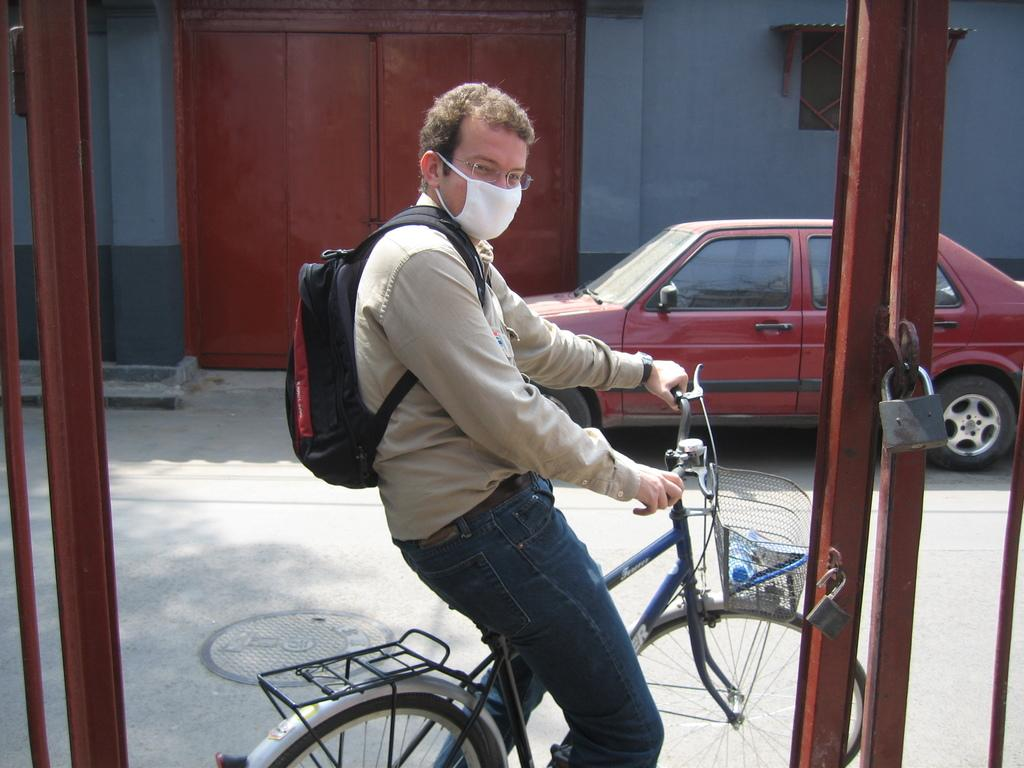Luggage-and-bags: (265, 176, 476, 524)
